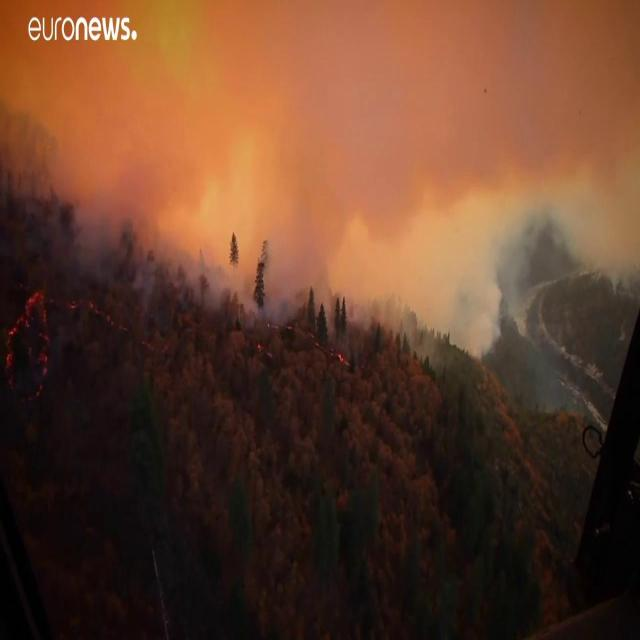Fire: (4, 287, 52, 396), (332, 350, 348, 364)
